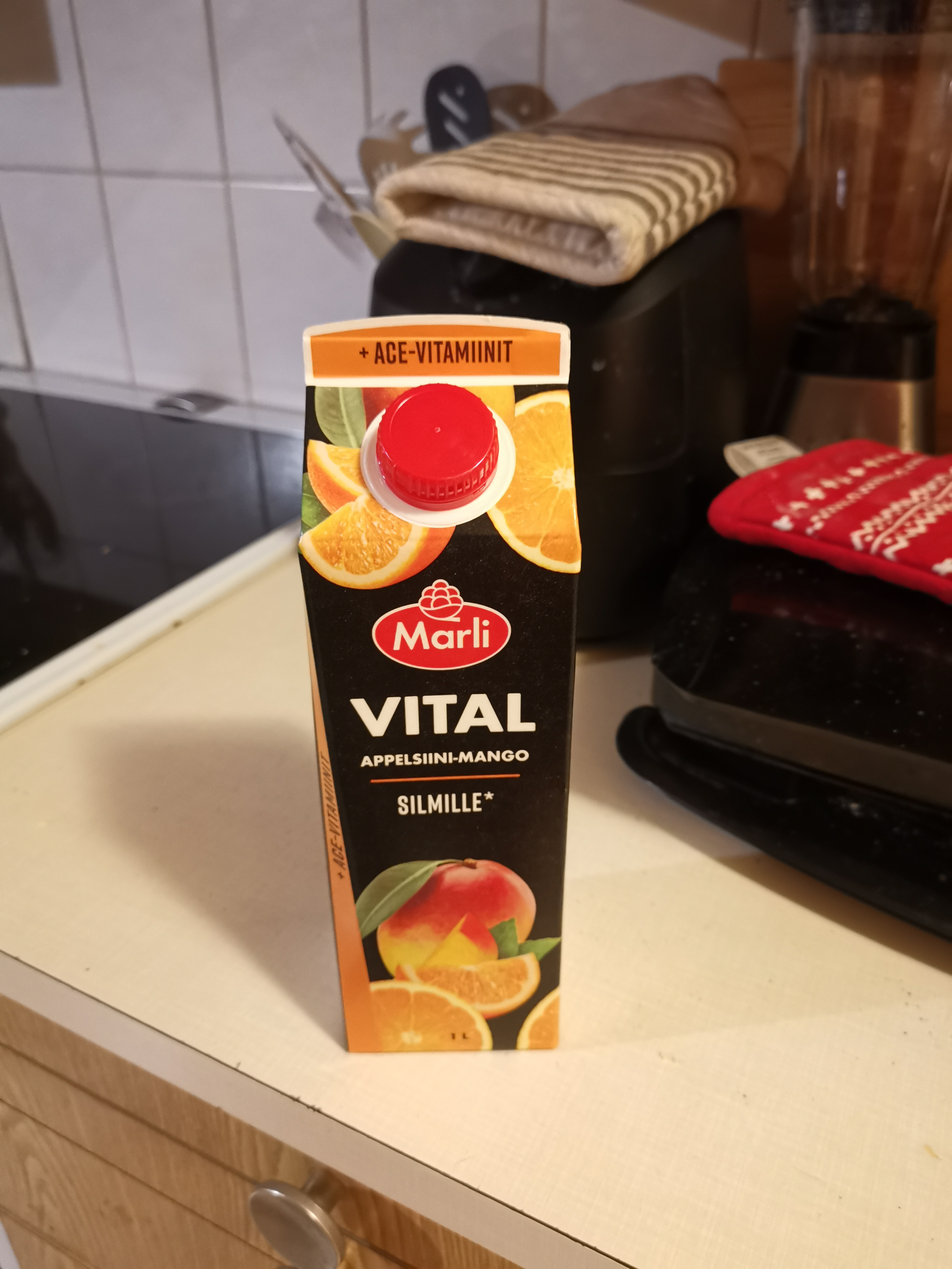Dryckeskartong: (293, 311, 585, 1056)
